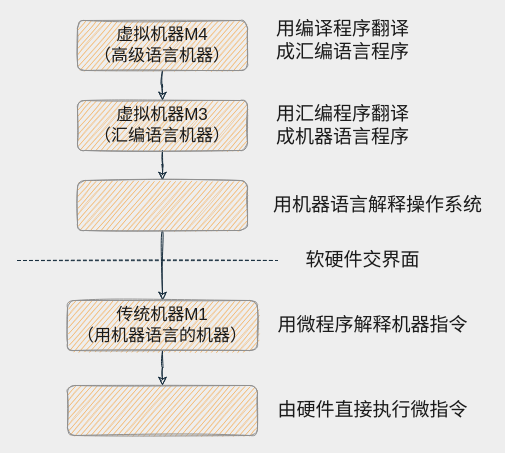
This 505x453 diagram has some shape labels left out. The centre of each missing label's shape, as x and y in pixels:
"微程序机器M0 （微指令系统）" belongs at pixel 162 410.
"虚拟机器M2 （操作系统机器）" belongs at pixel 162 205.
